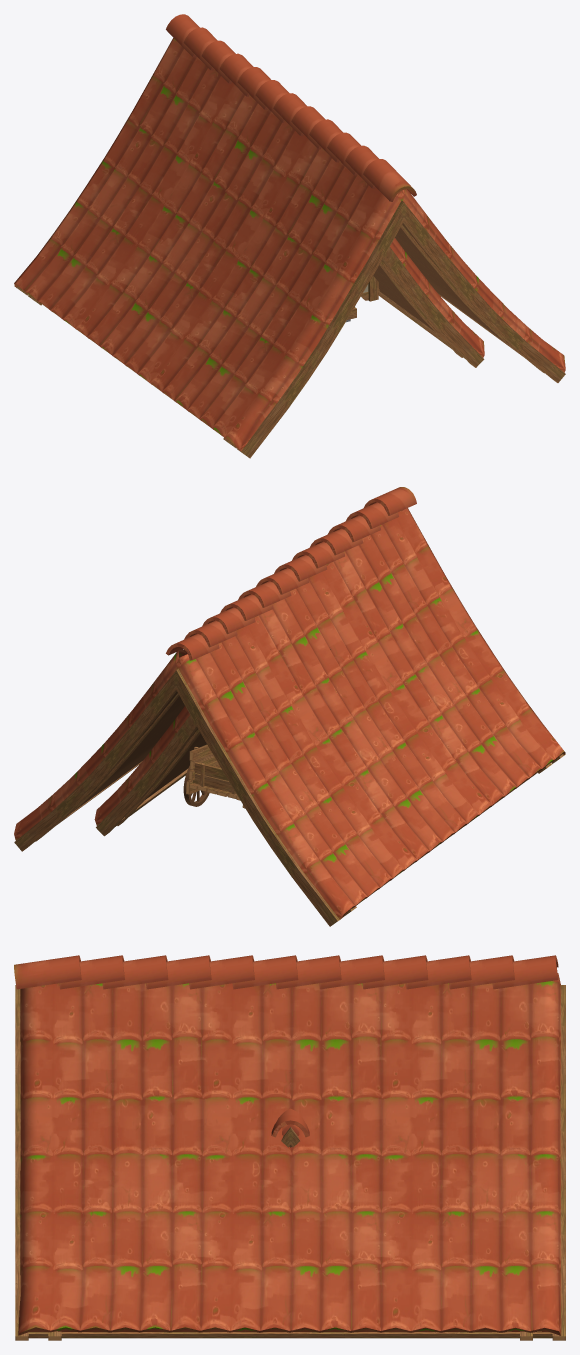
The model's file is medieval.glb.
3 renders of one model, top to bottom at view 1: azimuth 30°, elevation 25°; view 2: azimuth 150°, elevation 25°; view 3: azimuth 270°, elevation 25°, orthographic. The views are drawn at different scales.
Visible parts, largest first — view 1: Roof_RoundTiles_6x8, Roof_RoundTiles_4x6; view 2: Roof_RoundTiles_6x8, Roof_RoundTiles_4x6, Prop_Wagon; view 3: Roof_RoundTiles_6x8, Roof_Dormer_RoundTile.
Part boxes in pixels (x1,y1,x2,y2): Roof_RoundTiles_6x8: (14,14,565,458); Roof_RoundTiles_4x6: (373,238,484,367); Roof_RoundTiles_6x8: (14,487,565,926); Roof_RoundTiles_4x6: (94,706,206,836); Prop_Wagon: (183,744,245,808); Roof_RoundTiles_6x8: (14,955,565,1340); Roof_Dormer_RoundTile: (271,1108,309,1147).
Bounding box in the file's own units: 8.25 × 7.01 × 9.68.
9 materials, 8 textured.
